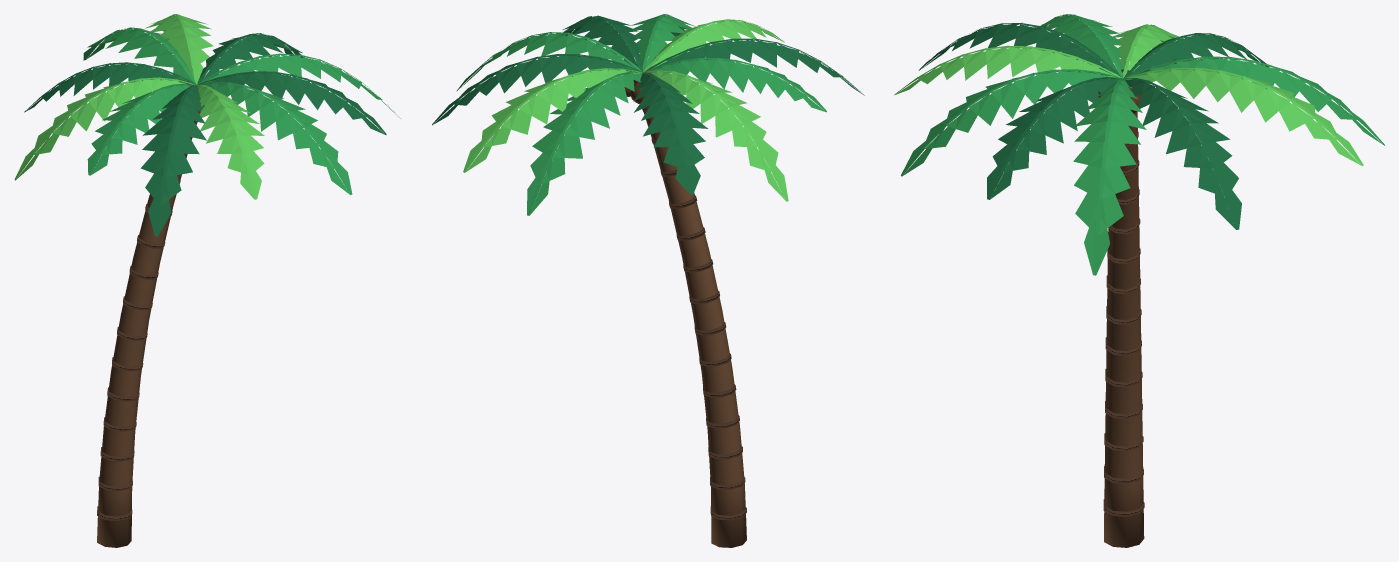
File: lava_palm.glb
3 views of the same model, side by side, from view 1: azimuth 30°, elevation 25°; view 2: azimuth 150°, elevation 25°; view 3: azimuth 270°, elevation 25° (orthographic). The views are drawn at different scales.
Parts seen in each view (by area): view 1: Palm; view 2: Palm; view 3: Palm.
Boxes of the visible parts, x1,y1,x2,y2 form: Palm: (14, 14, 400, 547); Palm: (432, 14, 864, 547); Palm: (894, 14, 1384, 547).
Size of the model in its own units: 5.98 by 7.34 by 6.13.
